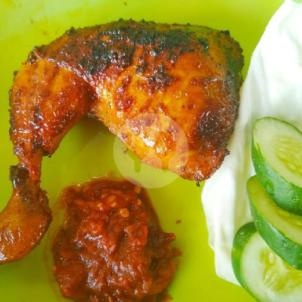ayam_goreng: (0, 18, 249, 251)
